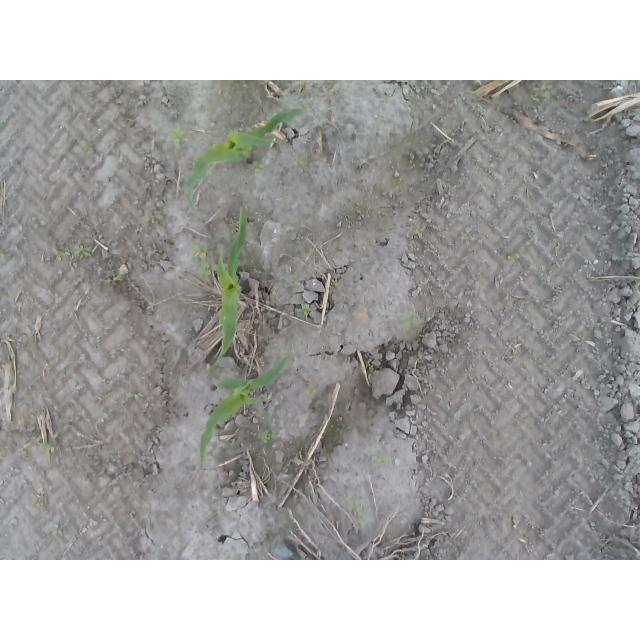Maize: (185, 107, 307, 213), (198, 354, 292, 470), (209, 204, 252, 372)
Weeds: (340, 492, 369, 529), (29, 432, 59, 459), (49, 245, 91, 264), (532, 84, 556, 104), (198, 263, 223, 278), (171, 124, 185, 149), (401, 315, 424, 330), (191, 244, 209, 263), (297, 304, 317, 318), (31, 492, 46, 509), (145, 212, 164, 225), (264, 429, 281, 443), (124, 392, 145, 402), (374, 454, 391, 466), (102, 275, 122, 285), (504, 247, 517, 261), (291, 154, 306, 166), (46, 526, 58, 539), (80, 142, 92, 154), (475, 279, 489, 288), (415, 225, 425, 236), (306, 386, 315, 395), (380, 92, 388, 102), (460, 232, 468, 241), (492, 429, 500, 438), (254, 162, 262, 171), (369, 364, 375, 373), (221, 556, 230, 561)
